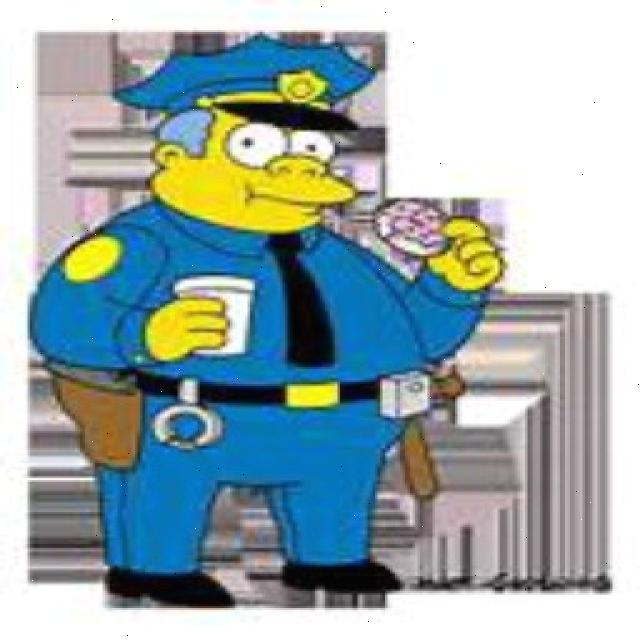Chief Wiggam: (106, 36, 378, 236)
